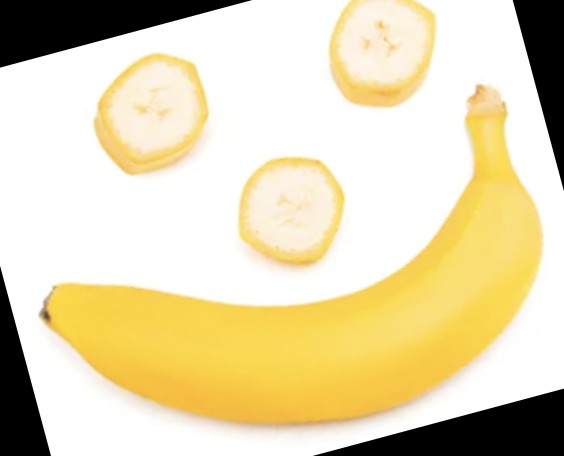fresh_banana: (41, 85, 543, 425)
